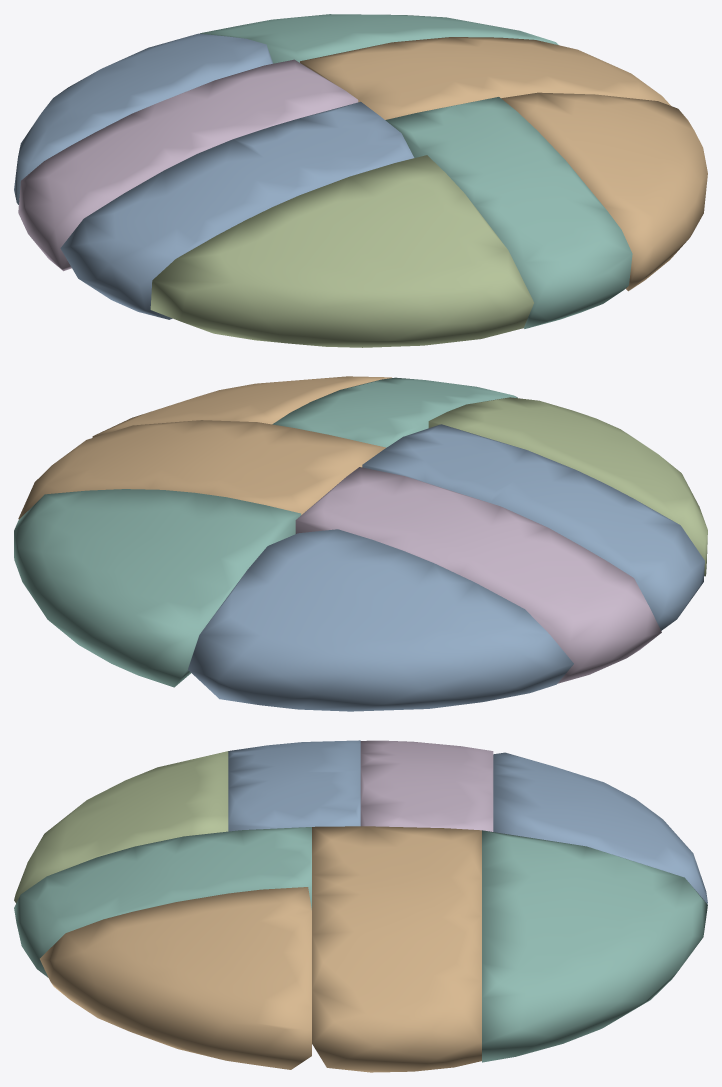
3 views of the same model, one above another, from view 1: azimuth 30°, elevation 25°; view 2: azimuth 150°, elevation 25°; view 3: azimuth 270°, elevation 25° (orthographic).
Bounding box in the file's own units: 1.99 × 0.3407 × 1.99.
